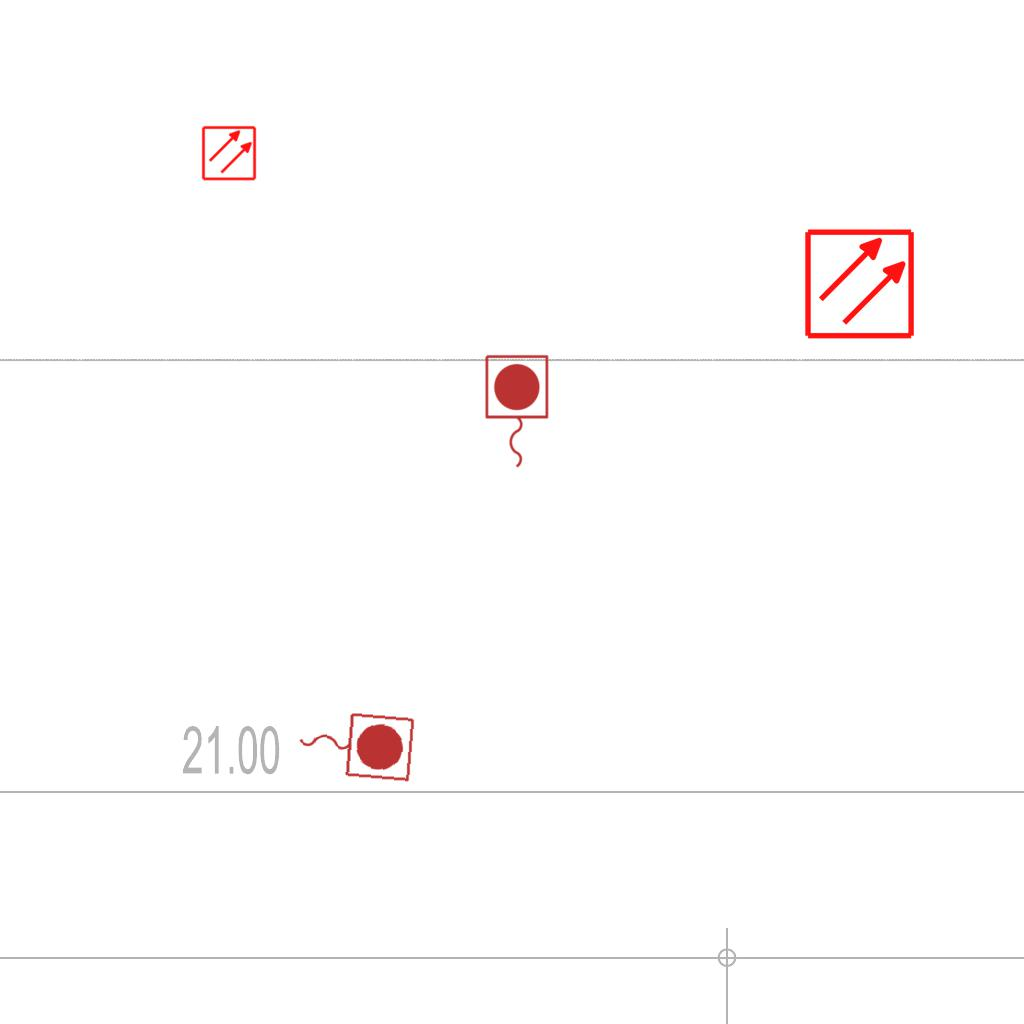RMO_Rauchmelder_optischer: (803, 227, 916, 340), (201, 125, 257, 181)
Zugtaster: (291, 702, 419, 786), (480, 351, 552, 473)
